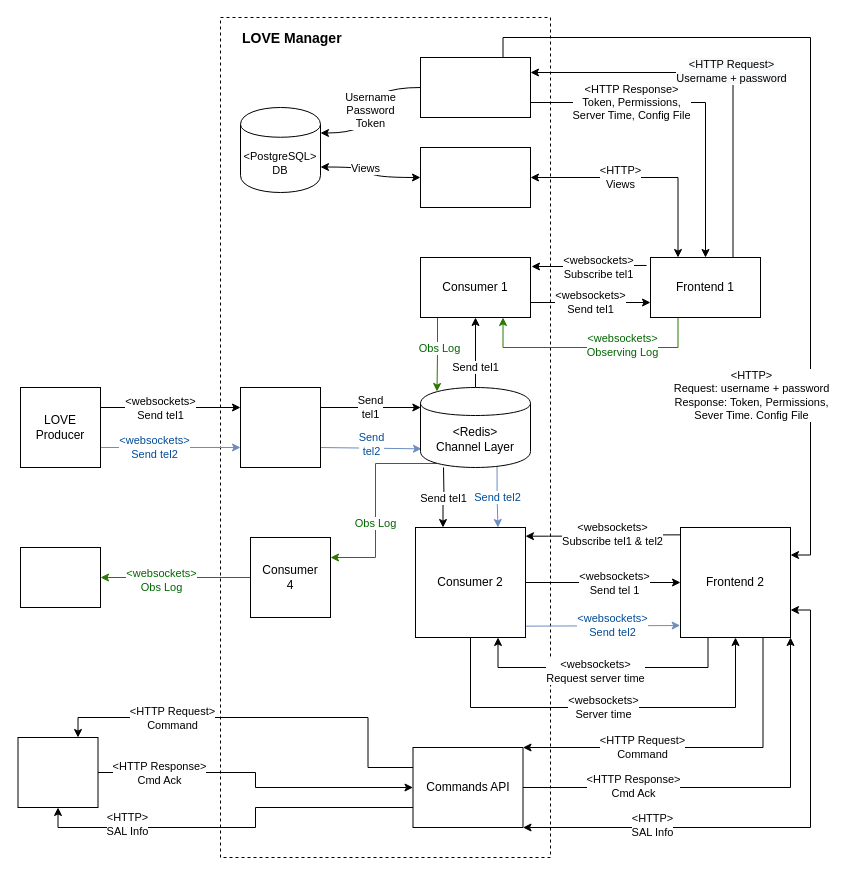
This 846x875 diagram has some shape labels left out. Each missing label, with the box of its shape:
Auth API: (420, 56, 530, 118)
Consumer 3: (240, 386, 320, 468)
LOVE Commander: (17, 736, 98, 808)
LOVE CSC: (20, 546, 100, 608)
UI Framework API: (420, 146, 530, 208)
